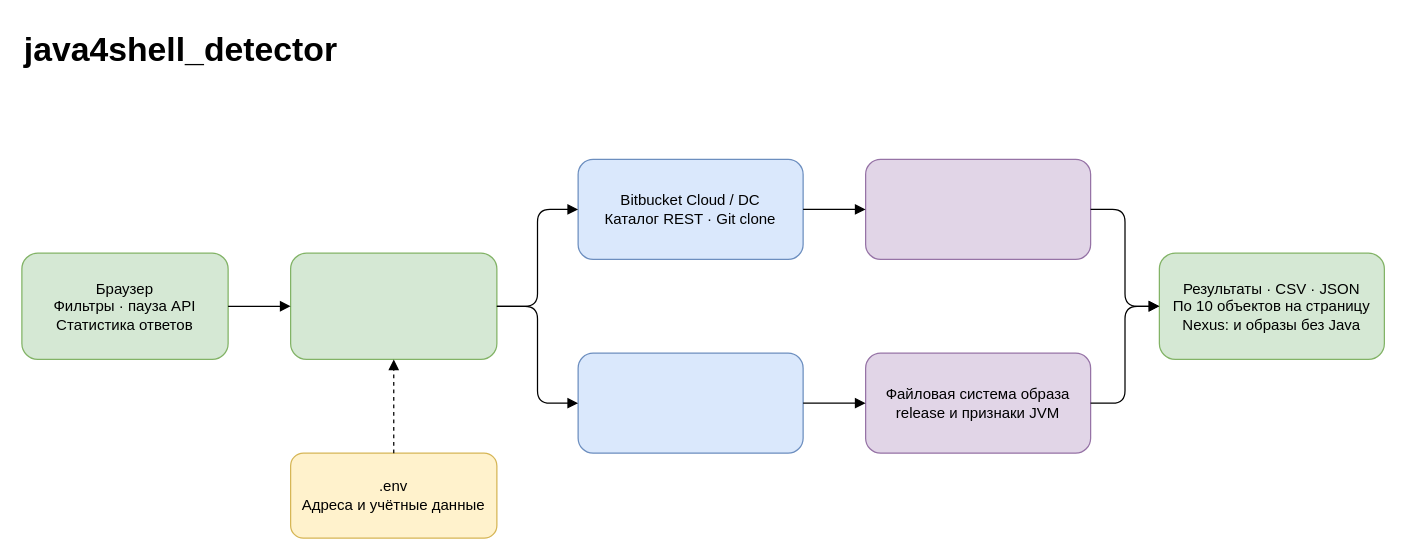
Some shapes in this 1406 by 560 pixel diagram are drawn without their labels. The box of each missing label's shape, as (x1, y1, x2, y2) in pixels:
Nexus REST / ExtDirect Docker Registry Репозитории, теги, digest: (577, 352, 803, 453)
Python API Docker Compose Запуск и прогресс: (289, 252, 497, 359)
Локальная проверка файлов Один раз на путь и Git blob Файл, строка, роль Java: (864, 158, 1091, 259)
